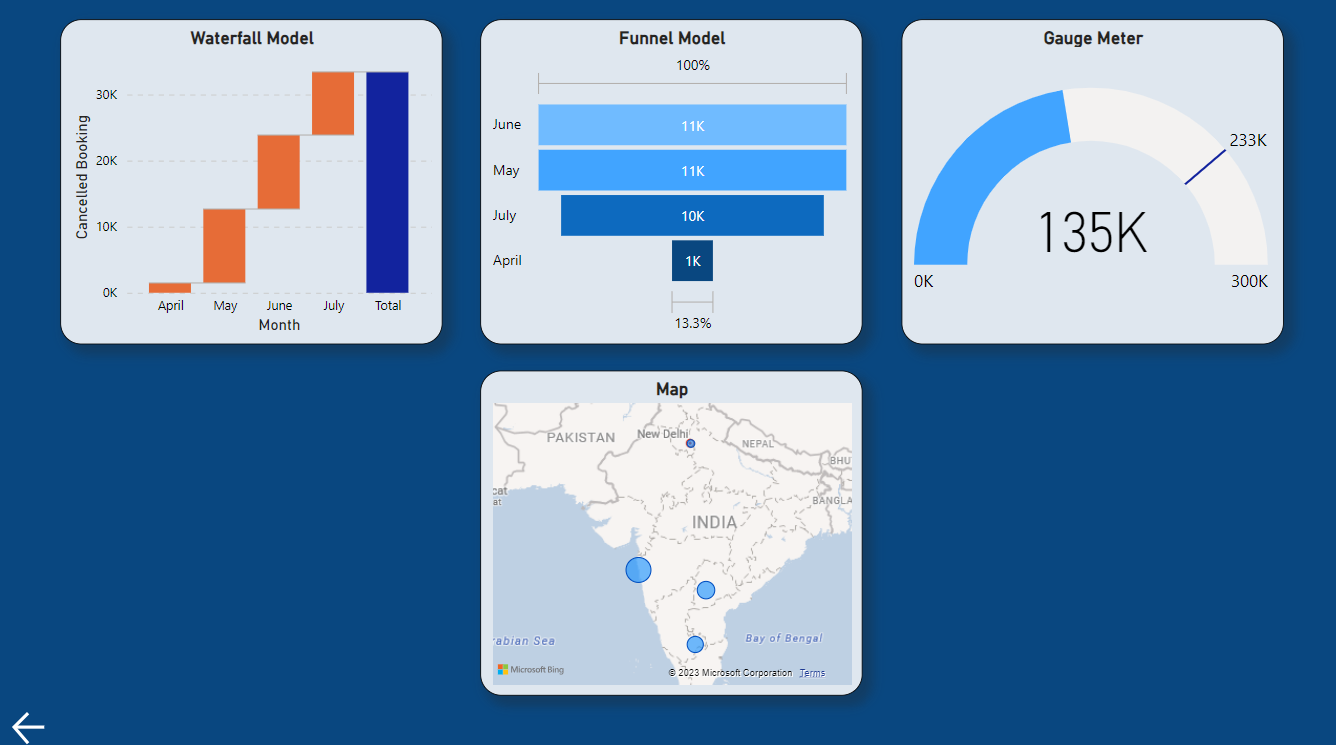

The dashboard page shown, as its layout file describes it:
{"tool":"powerbi","page":{"name":"Page 2","canvas":[1280,720],"ordinal":1},"visuals":[{"type":"waterfallChart","title":"Waterfall Model","fields":{"Y":["fact_bookings.8. Total cancelled booking"],"Category":["fact_bookings.booking_date.Variation.Date Hierarchy.Month"]},"box":[57.8,25,363.9,309.2],"z":0},{"type":"funnel","title":"Funnel Model","fields":{"Category":["fact_bookings.Month"],"Y":["fact_bookings.8. Total cancelled booking"]},"box":[457.6,25,363.9,309.2],"z":1000},{"type":"gauge","title":"Gauge Meter","fields":{"Y":["fact_aggregated_bookings.4. Total Successful Booking"],"TargetValue":["fact_aggregated_bookings.3. Total Capacity"]},"box":[859,25,363.9,309.2],"z":2000},{"type":"map","title":"Map","fields":{"Category":["dim_hotel.city"],"Size":["fact_aggregated_bookings.3. Total Capacity"]},"box":[457.6,359.2,363.9,309.2],"z":3000},{"type":"actionButton","box":[7.8,679.4,50,40.6],"z":4000}]}

Visuals, with their boxes in screenshot pixels (x1, y1, x2, y2), scaled from the page's 1280x720 canvas onto the 1336x745 screenshot:
"Waterfall Model" waterfallChart: (x1=60, y1=26, x2=440, y2=346)
"Funnel Model" funnel: (x1=478, y1=26, x2=857, y2=346)
"Gauge Meter" gauge: (x1=897, y1=26, x2=1276, y2=346)
"Map" map: (x1=478, y1=372, x2=857, y2=692)
actionButton: (x1=8, y1=703, x2=60, y2=744)
